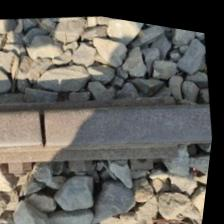person: (17, 98, 75, 155)
